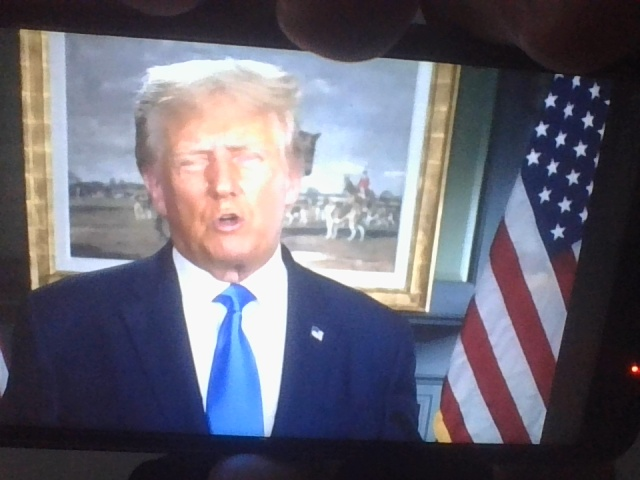fake: (149, 54, 305, 275)
